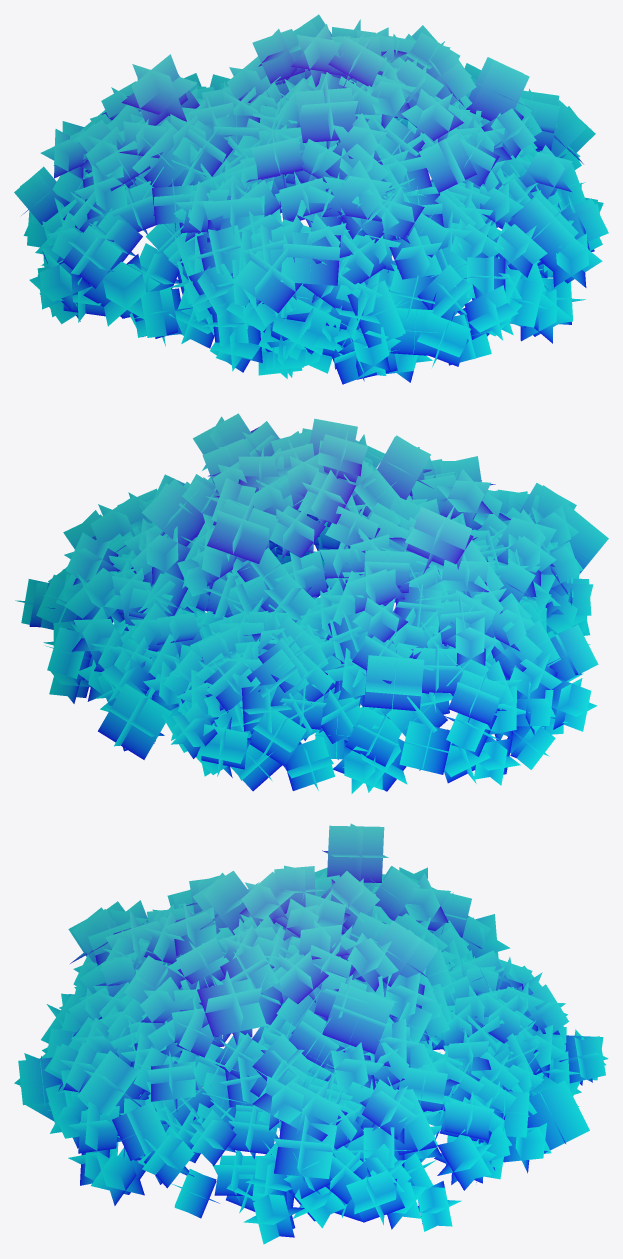
File: SM_Env_Bush_02.FBX
3 views of the same model, one above another, from view 1: azimuth 30°, elevation 25°; view 2: azimuth 150°, elevation 25°; view 3: azimuth 270°, elevation 25° (orthographic).
Parts seen in each view (by area): view 1: SM_Env_Bush_02; view 2: SM_Env_Bush_02; view 3: SM_Env_Bush_02.
Part boxes in pixels (<box>): SM_Env_Bush_02: <box>14,14,608,384</box>; SM_Env_Bush_02: <box>15,413,608,793</box>; SM_Env_Bush_02: <box>14,823,608,1244</box>.
Bounding box in the file's own units: 495 × 470 × 233.
